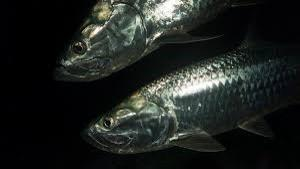Indo-Pacific Tarpon: (87, 39, 300, 167), (57, 0, 220, 80)
